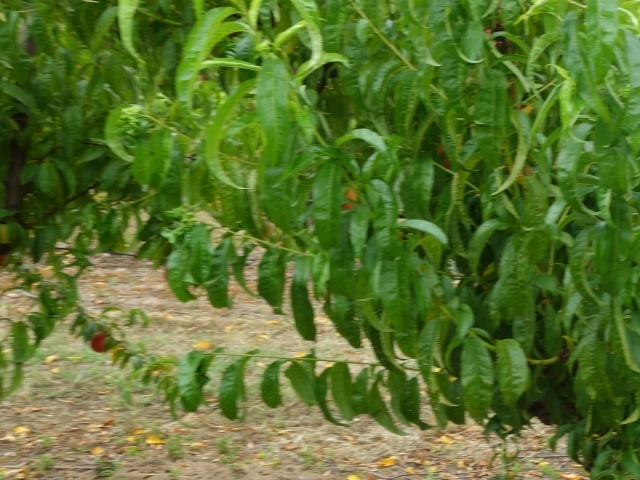peach: (86, 328, 113, 358)
